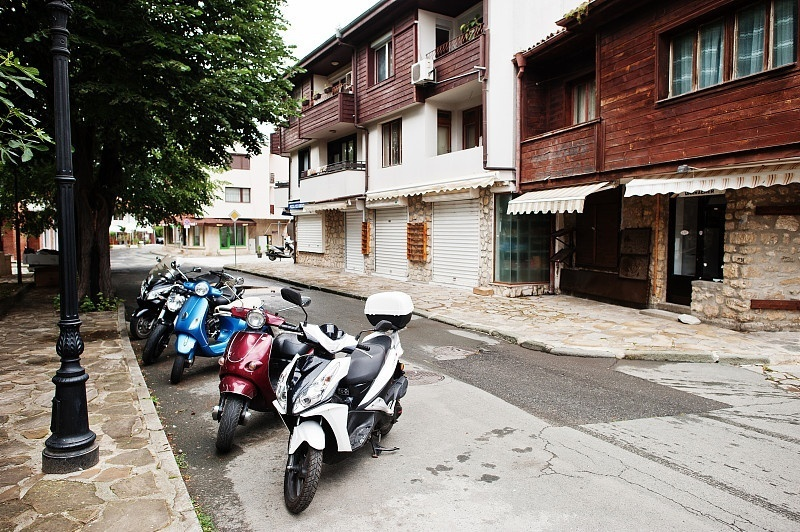non-vehicle: (279, 287, 416, 513), (210, 296, 286, 443), (150, 266, 236, 371), (130, 254, 184, 353)
